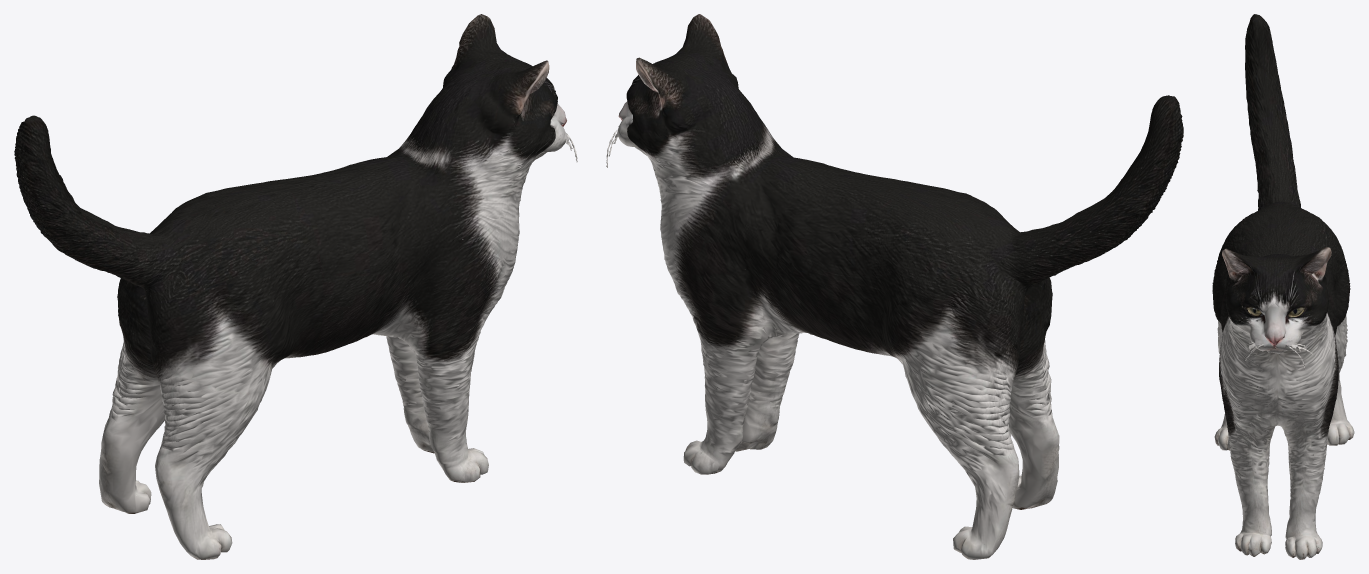
The model's file is JJINGJJING.glb.
3 views of the same model, side by side, from view 1: azimuth 30°, elevation 25°; view 2: azimuth 150°, elevation 25°; view 3: azimuth 270°, elevation 25° (orthographic). The views are drawn at different scales.
Visible parts, largest first — view 1: tripo_node_92949f0e-f000-4858-aa90-6d16a549dd9c; view 2: tripo_node_92949f0e-f000-4858-aa90-6d16a549dd9c; view 3: tripo_node_92949f0e-f000-4858-aa90-6d16a549dd9c.
Part boxes in pixels (<box>): tripo_node_92949f0e-f000-4858-aa90-6d16a549dd9c: <box>14,14,577,559</box>; tripo_node_92949f0e-f000-4858-aa90-6d16a549dd9c: <box>606,14,1183,559</box>; tripo_node_92949f0e-f000-4858-aa90-6d16a549dd9c: <box>1212,14,1354,559</box>.
Size of the model in its own units: 1.26 by 0.9985 by 0.3483.
Materials: 1 (1 with a texture image).
